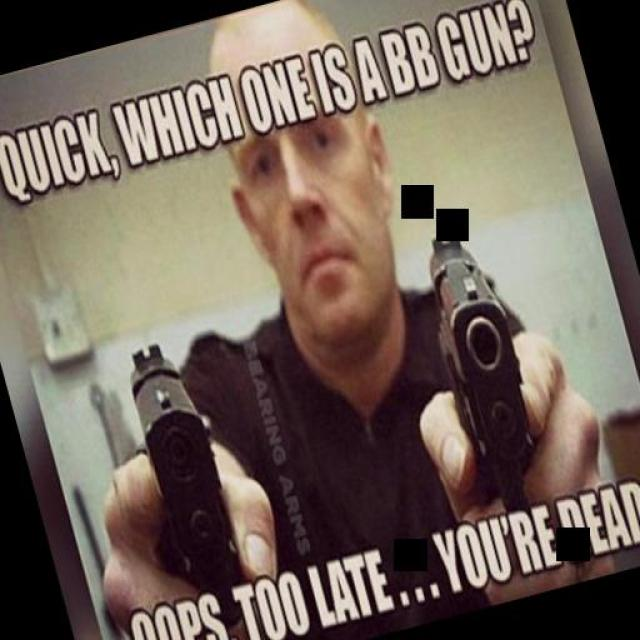gun: (406, 214, 564, 540), (110, 320, 258, 629)
